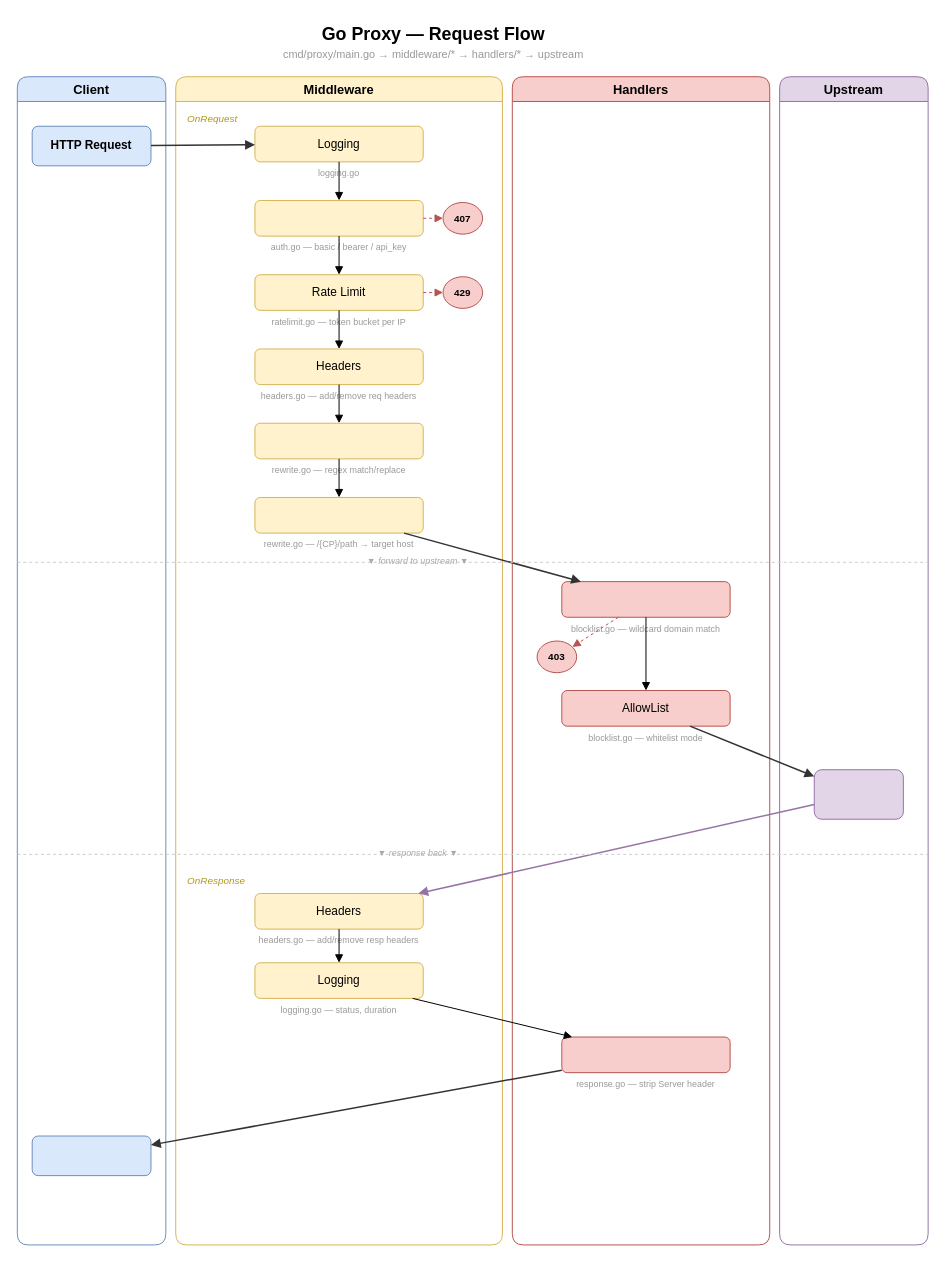
Image size: 945x1262. Some labels were removed from this diagram. The centre of each missing label's shape, as x and y in pixels:
"Auth" belongs at (338,217).
"BlockList" belongs at (645,599).
"HTTP Response" belongs at (91,1155).
"Provider Route" belongs at (338,514).
"ResponseModifier" belongs at (645,1054).
"Target Server" belongs at (858,794).
"URL Rewrite" belongs at (338,440).
